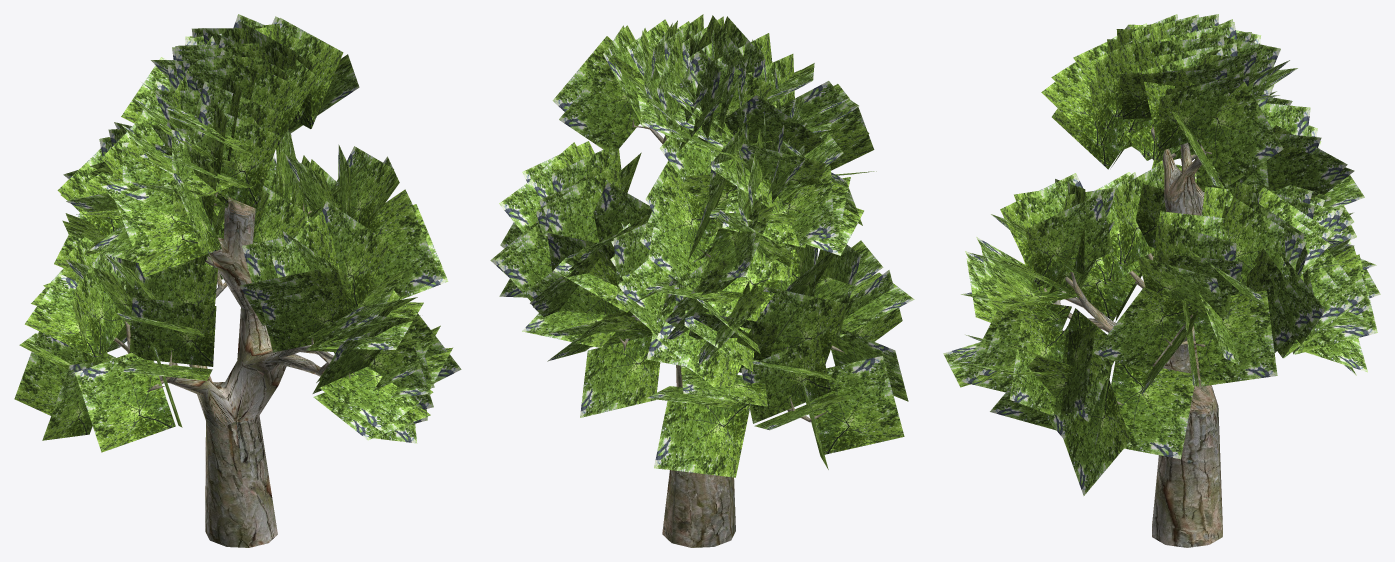
The picture shows the model from 3 angles, left to right: view 1: azimuth 30°, elevation 25°; view 2: azimuth 150°, elevation 25°; view 3: azimuth 270°, elevation 25°; orthographic projection. The views are drawn at different scales.
Visible parts, largest first — view 1: twig, tree; view 2: twig, tree; view 3: twig, tree.
Boxes of the visible parts, <box> form: twig: <box>14,14,461,452</box>; tree: <box>114,192,354,547</box>; twig: <box>490,14,914,477</box>; tree: <box>619,119,844,547</box>; twig: <box>943,14,1380,495</box>; tree: <box>1044,127,1222,547</box>.
Bounding box in the file's own units: 5.07 × 4.77 × 6.11.
Materials: 2 (2 with a texture image).
